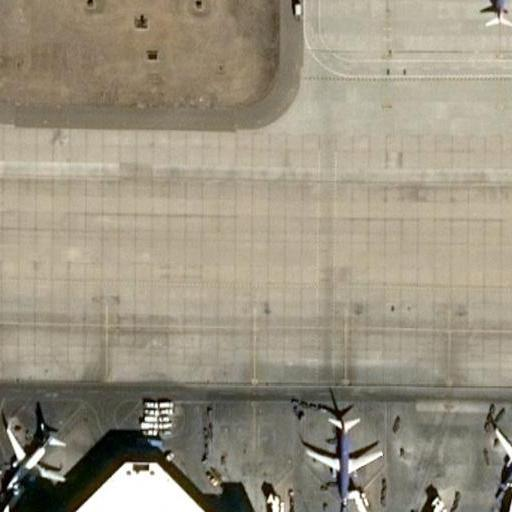Aircraft: (298, 405, 383, 503), (0, 412, 69, 499), (485, 406, 512, 495), (470, 0, 512, 31)
